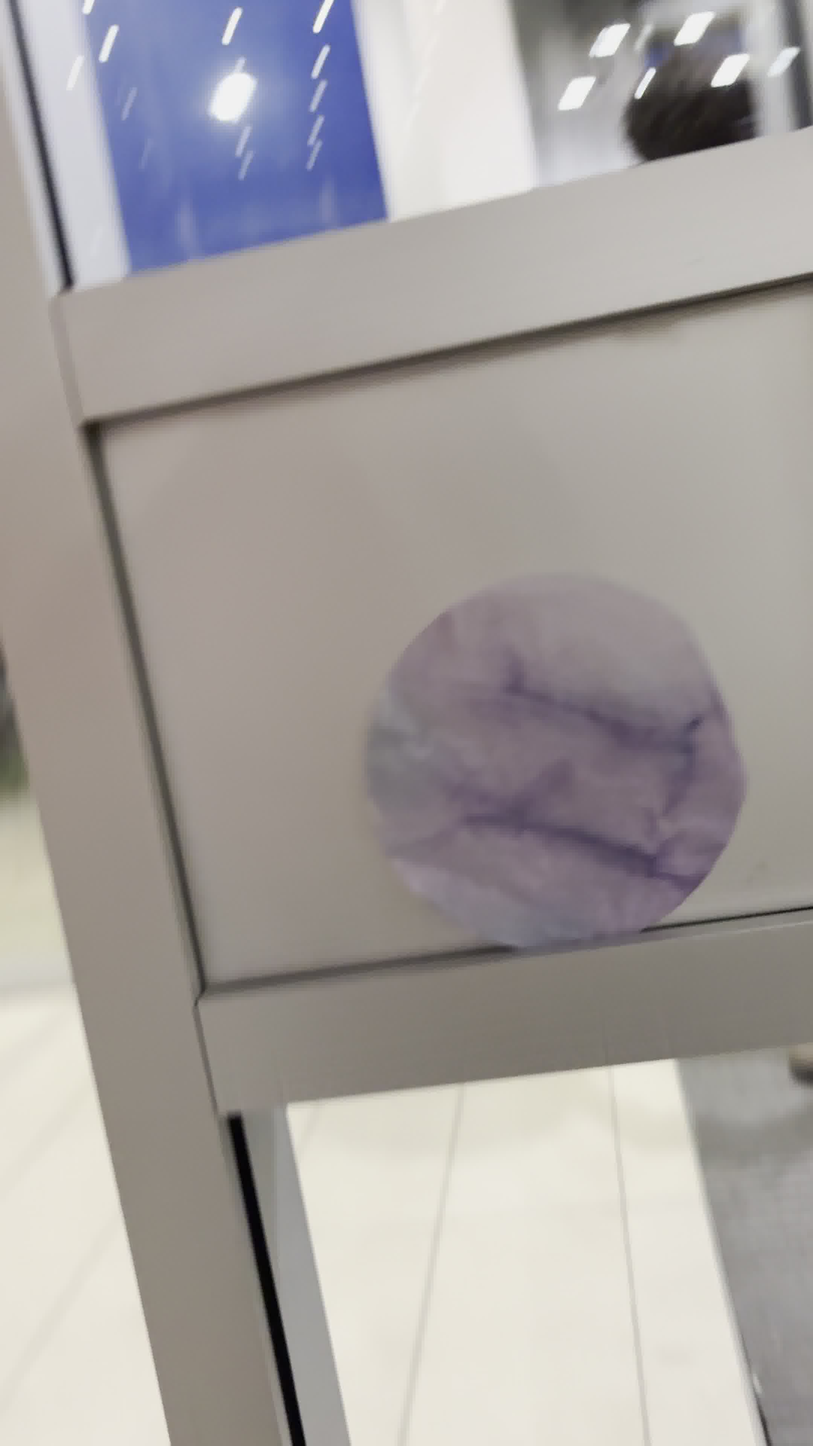Target: (344, 556, 765, 957)
